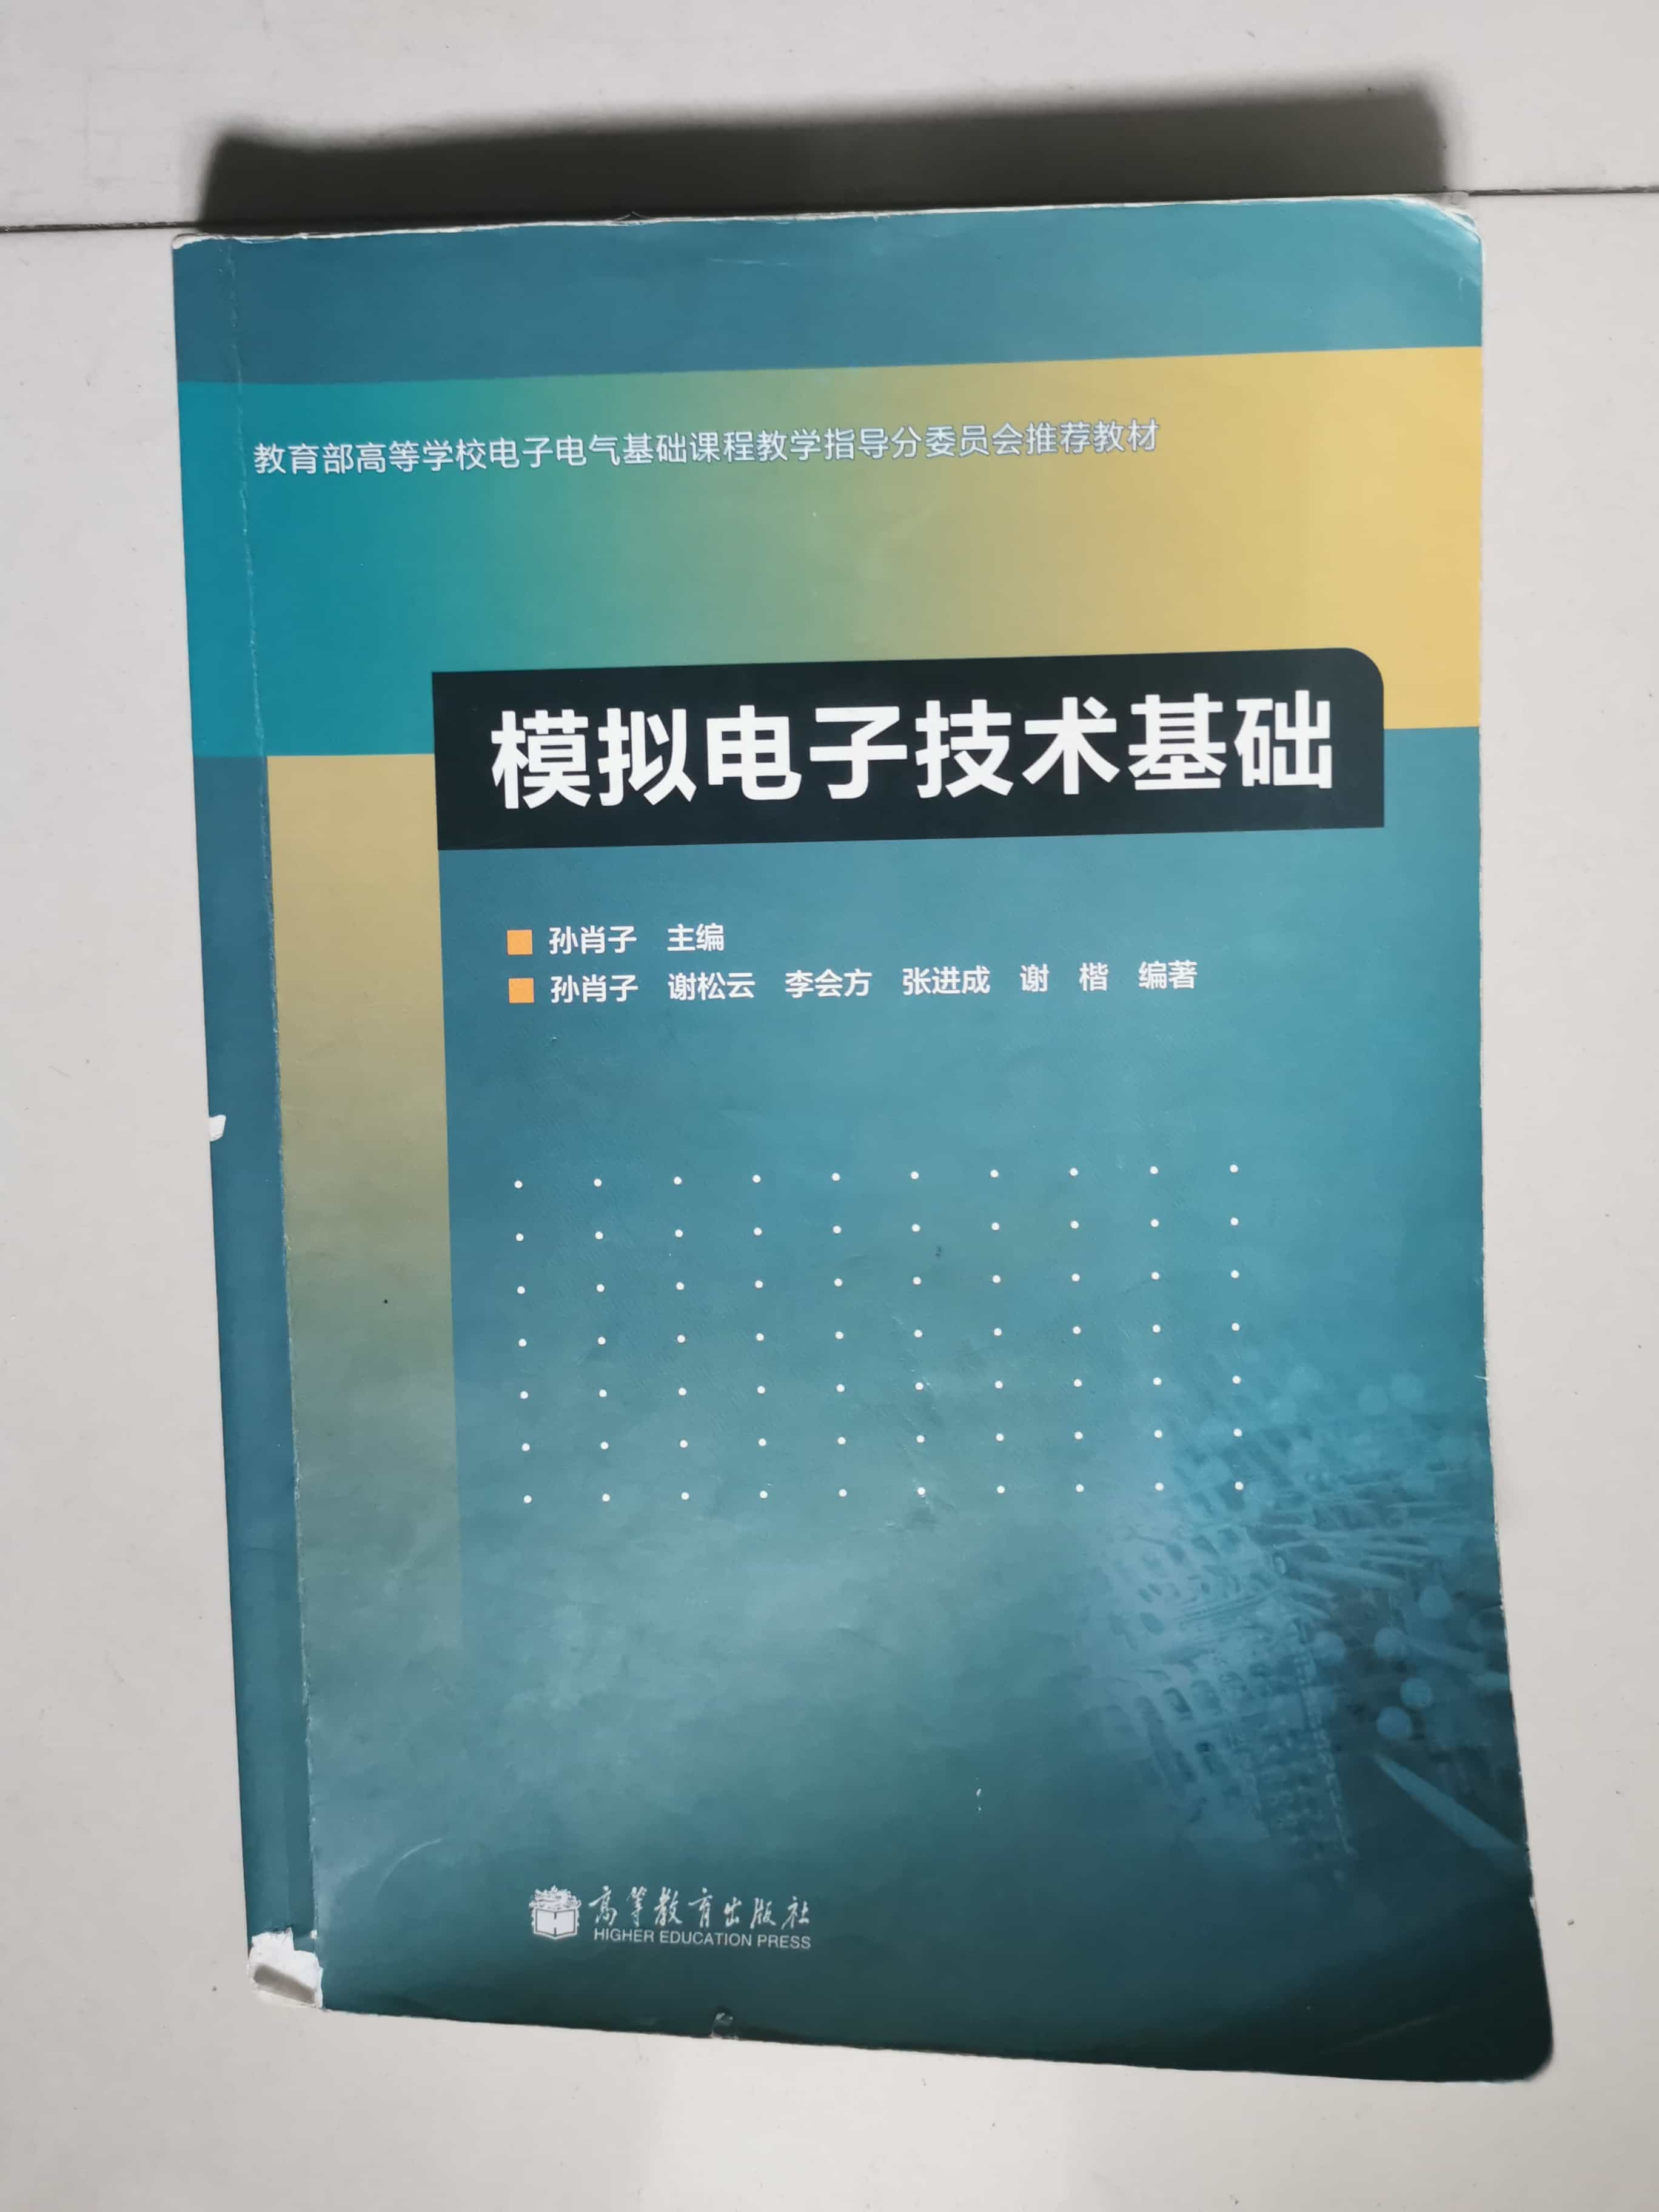book: (138, 172, 1584, 2109)
